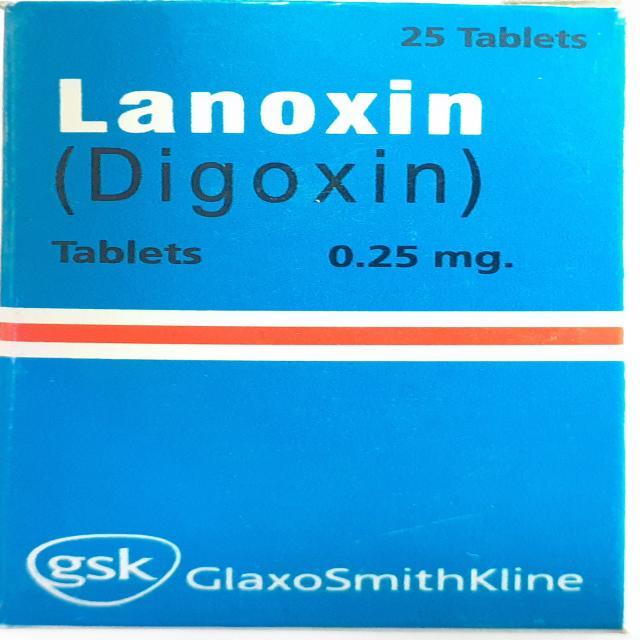drug-name: (51, 76, 496, 138)
